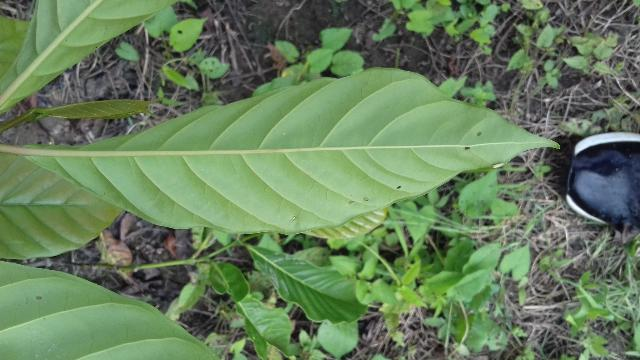healthy: (9, 66, 569, 239)
